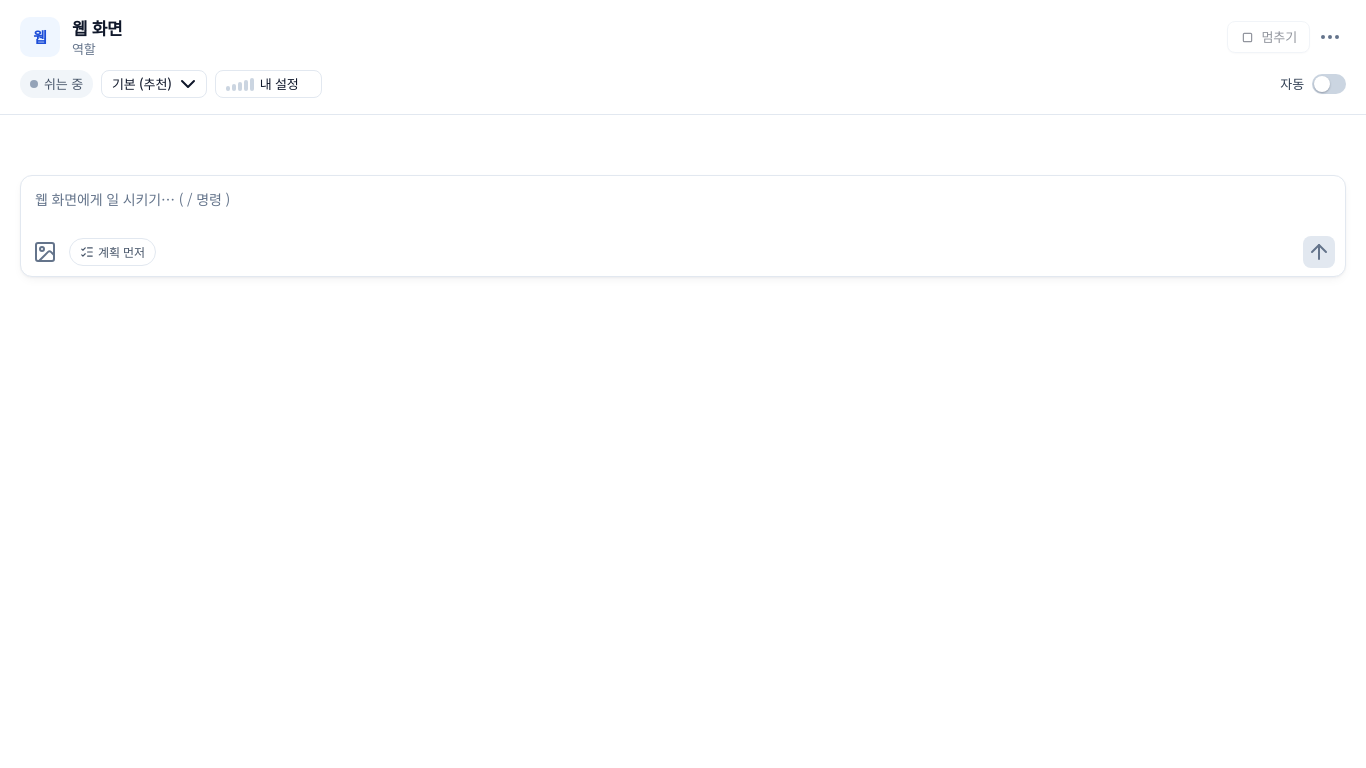
Test case: AlwaysAllowDialog › 메뉴에 항상 허용한 일과 수 — 누르면 대화상자
Click the button named "메뉴".
click(1330, 37)  # box [1314,21,1346,53]
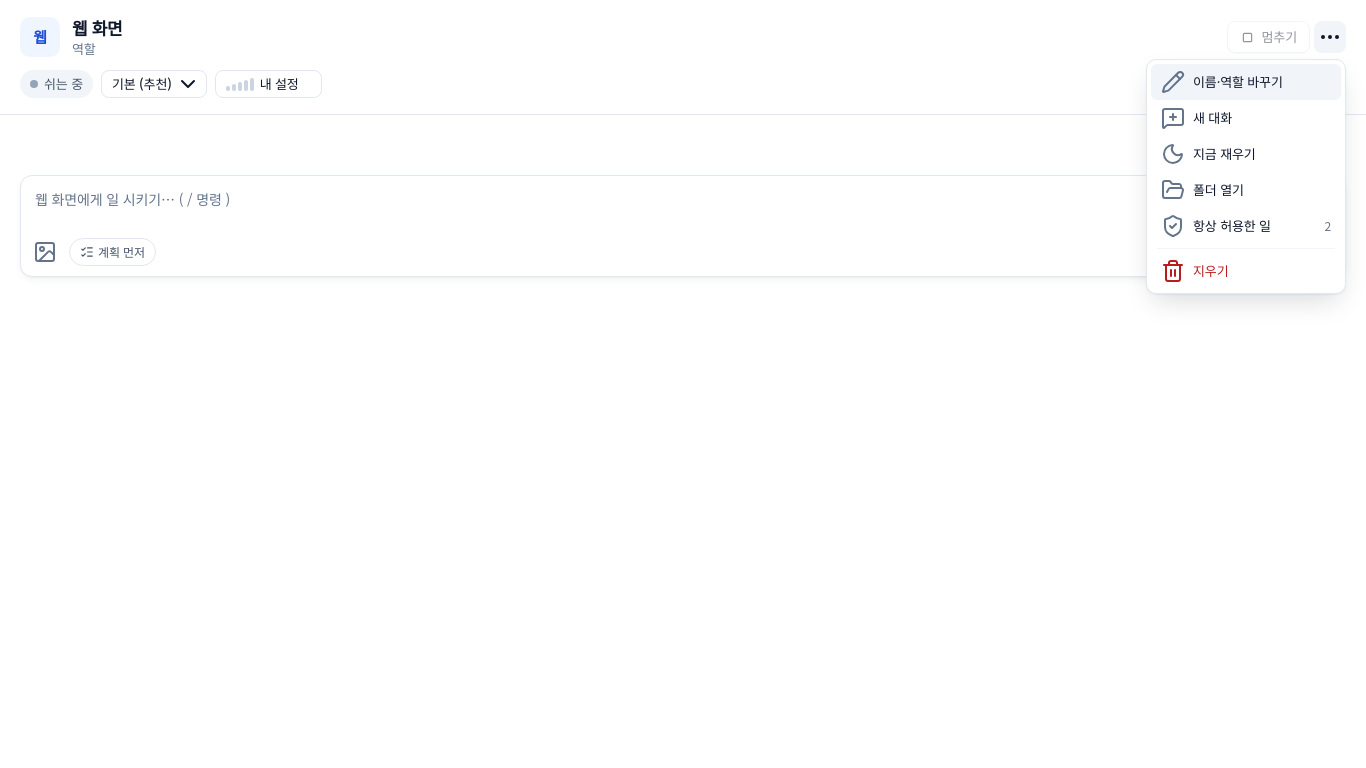
Now the menu item "항상 허용한 일 2" is shown
Click the menu item "항상 허용한 일 2".
click(1246, 226)  # box [1151,208,1341,244]
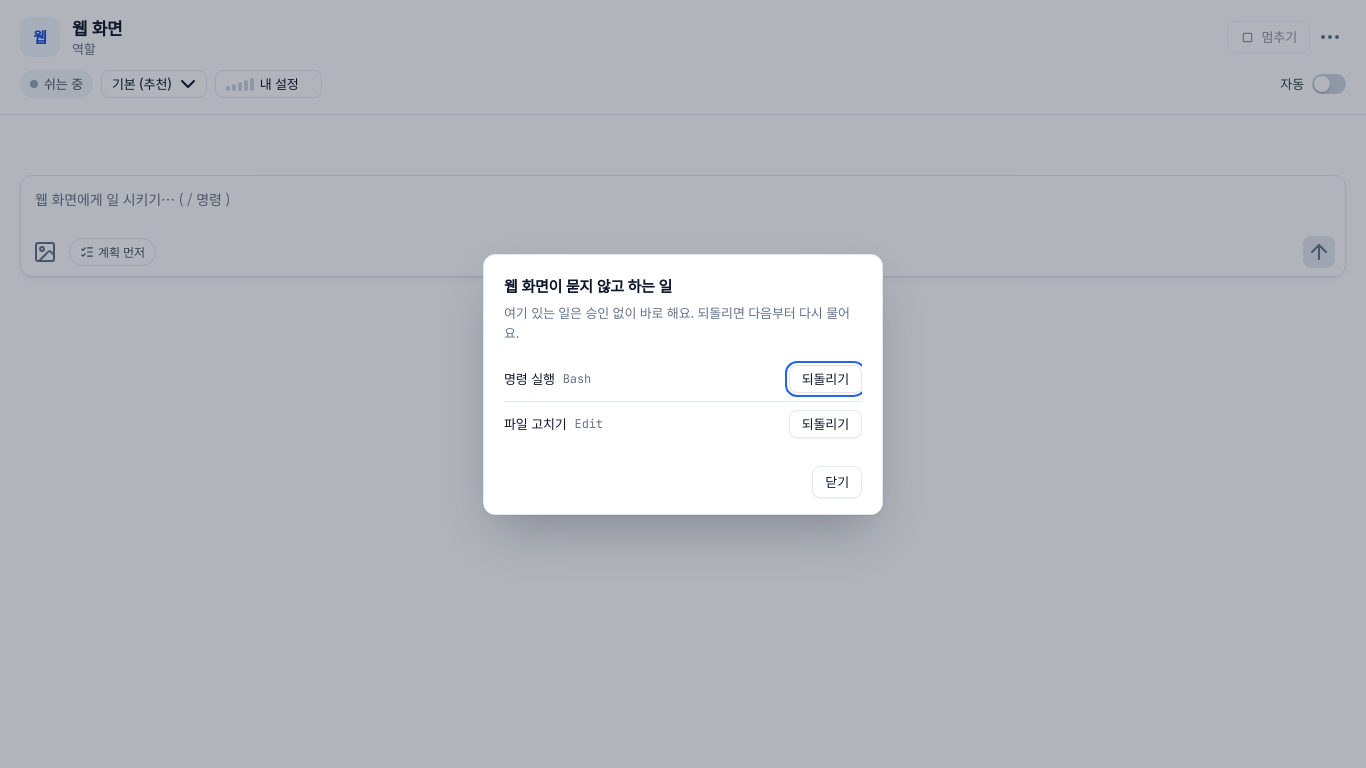
Now the dialog shows "웹 화면이 묻지 않고 하는 일", box [483,254,883,514]
Now the dialog shows "여기 있는 일은 승인 없이 바로 해요. 되돌리면 다음부터 다시 물어요.", box [504,302,850,342]
Now the dialog shows "명령 실행", box [504,368,555,388]
